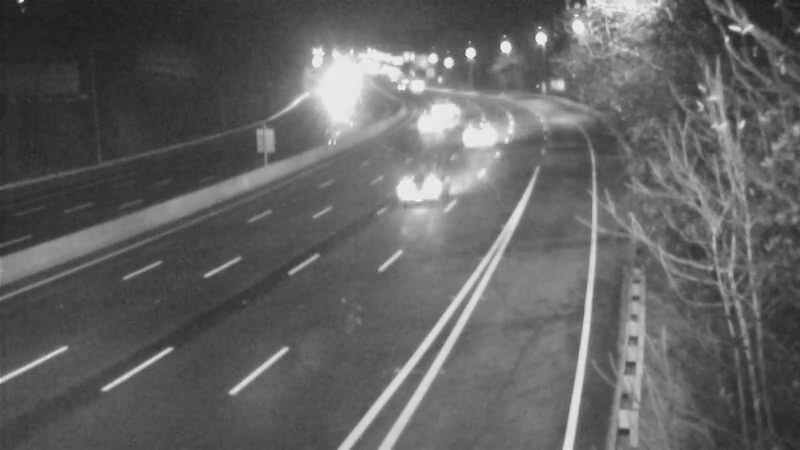vehicle: (372, 145, 452, 225), (421, 86, 471, 136), (399, 100, 449, 150), (453, 107, 503, 157)
